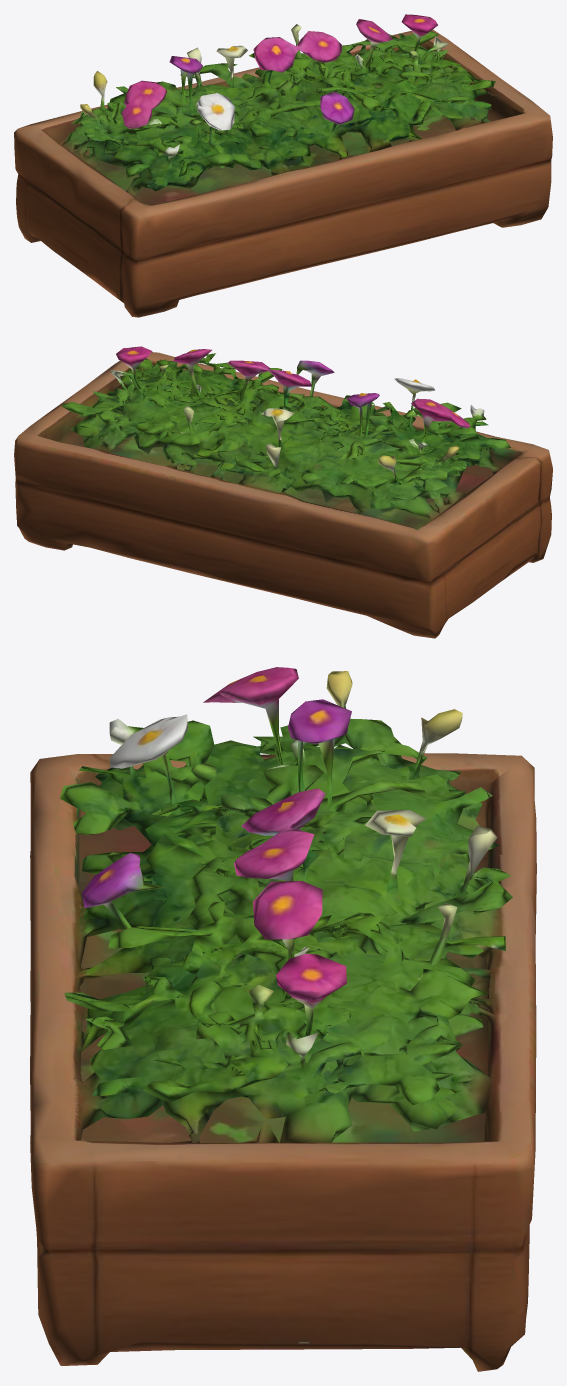
File: flowerbed.glb
The picture shows the model from 3 angles, top to bottom: view 1: azimuth 30°, elevation 25°; view 2: azimuth 150°, elevation 25°; view 3: azimuth 270°, elevation 25°; orthographic projection. The views are drawn at different scales.
Bounding box in the file's own units: 0.9999 × 0.4229 × 0.5188.
Materials: 1 (1 with a texture image).
